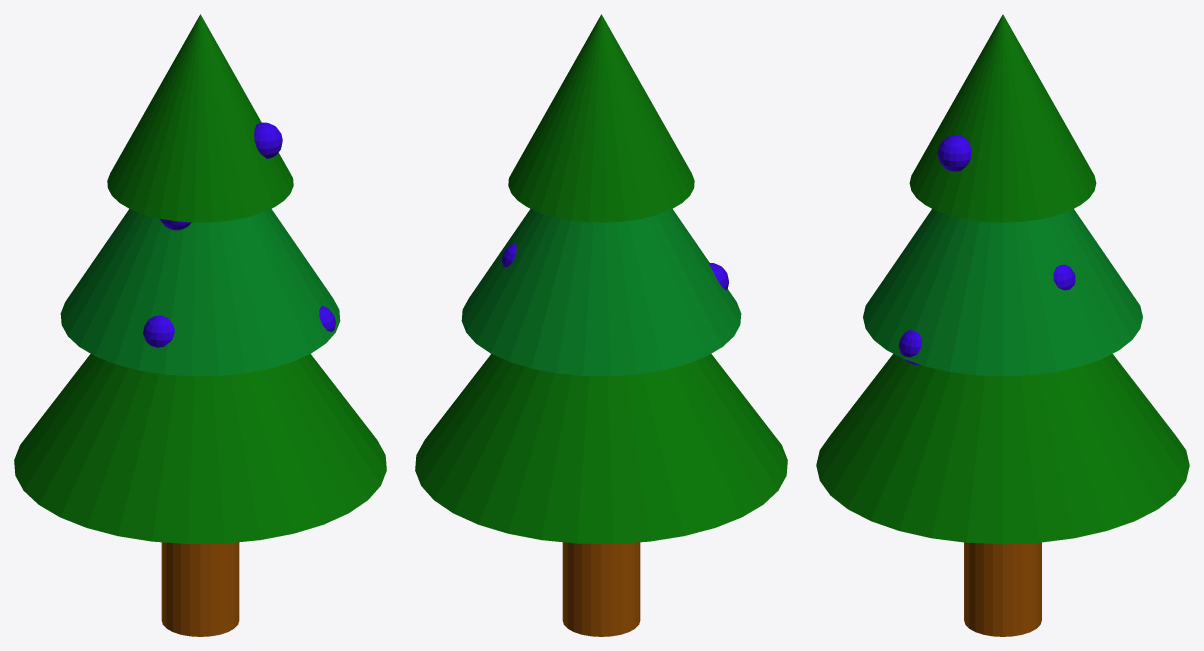
Rendered from tree2.glb.
The picture shows the model from 3 angles, left to right: view 1: azimuth 30°, elevation 25°; view 2: azimuth 150°, elevation 25°; view 3: azimuth 270°, elevation 25°; orthographic projection.
Visible parts, largest first — view 1: Bottom Leaves, Middle Leaves, Top Leaves, Tree Trunk, Red Fruit 5, Red Fruit 2; view 2: Bottom Leaves, Middle Leaves, Top Leaves, Tree Trunk; view 3: Bottom Leaves, Middle Leaves, Top Leaves, Tree Trunk, Red Fruit 5, Red Fruit 1.
Part boxes in pixels (x1,y1,x2,y2): Bottom Leaves: (14,354,386,543); Middle Leaves: (60,209,340,376); Top Leaves: (107,14,293,222); Tree Trunk: (161,542,239,636); Red Fruit 5: (254,122,282,158); Red Fruit 2: (143,315,174,347); Bottom Leaves: (415,354,787,543); Middle Leaves: (461,209,741,376); Top Leaves: (508,14,694,222); Tree Trunk: (562,542,640,636); Bottom Leaves: (816,354,1189,544); Middle Leaves: (863,209,1142,376); Top Leaves: (909,14,1096,222); Tree Trunk: (964,542,1041,636); Red Fruit 5: (937,135,971,171); Red Fruit 1: (898,330,922,364).
Size of what is drawn, in the model's own units: 2.4 by 4.3 by 2.4.
